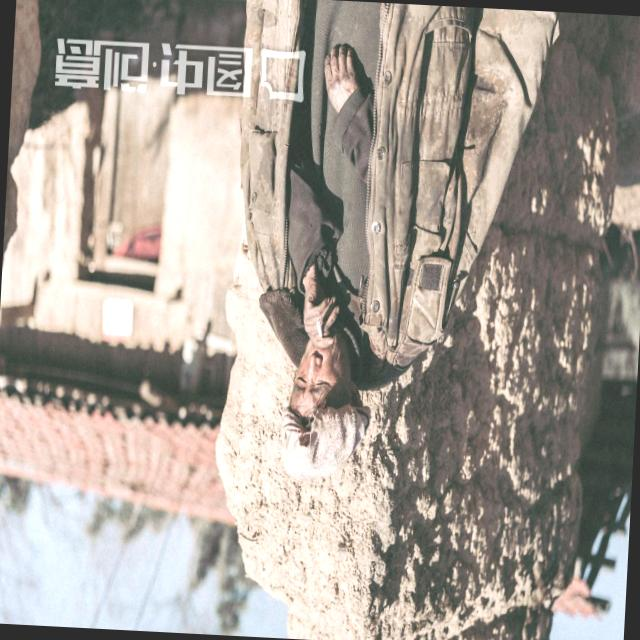smoke: (313, 316, 330, 340)
